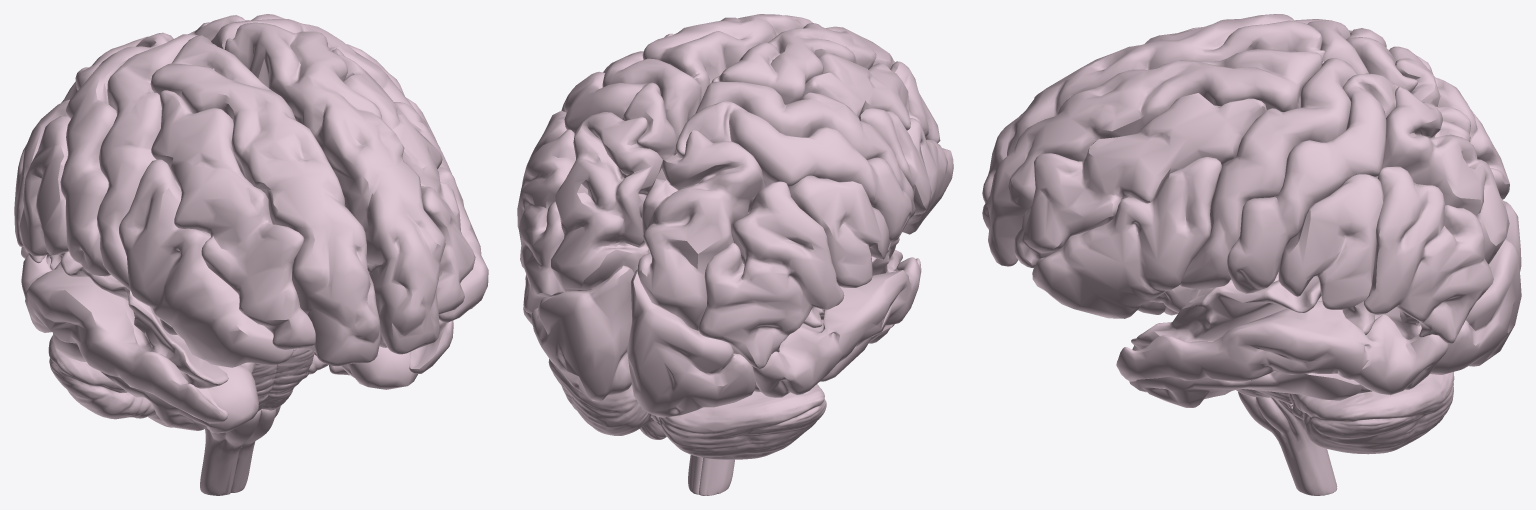
Rendered from male-classified-head-and-nervous-system.glb.
3 renders of one model, left to right at view 1: azimuth 30°, elevation 25°; view 2: azimuth 150°, elevation 25°; view 3: azimuth 270°, elevation 25°, orthographic. The views are drawn at different scales.
Parts seen in each view (by area): view 1: FMA50801; view 2: FMA50801; view 3: FMA50801.
Boxes of the visible parts, box(x1,y1,x2,y2) form: FMA50801: box(14, 14, 488, 495); FMA50801: box(517, 14, 953, 495); FMA50801: box(982, 14, 1521, 495).
Size of the model in its own units: 0.1388 by 0.166 by 0.18.
